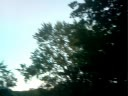window: (0, 8, 34, 96), (45, 80, 74, 96), (45, 43, 68, 57), (101, 90, 118, 96), (97, 59, 105, 66)
